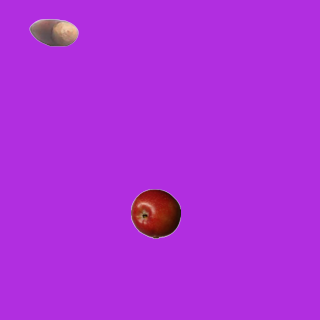Apple Braeburn: (130, 188, 180, 238)
Hazelnut: (28, 7, 78, 57)
